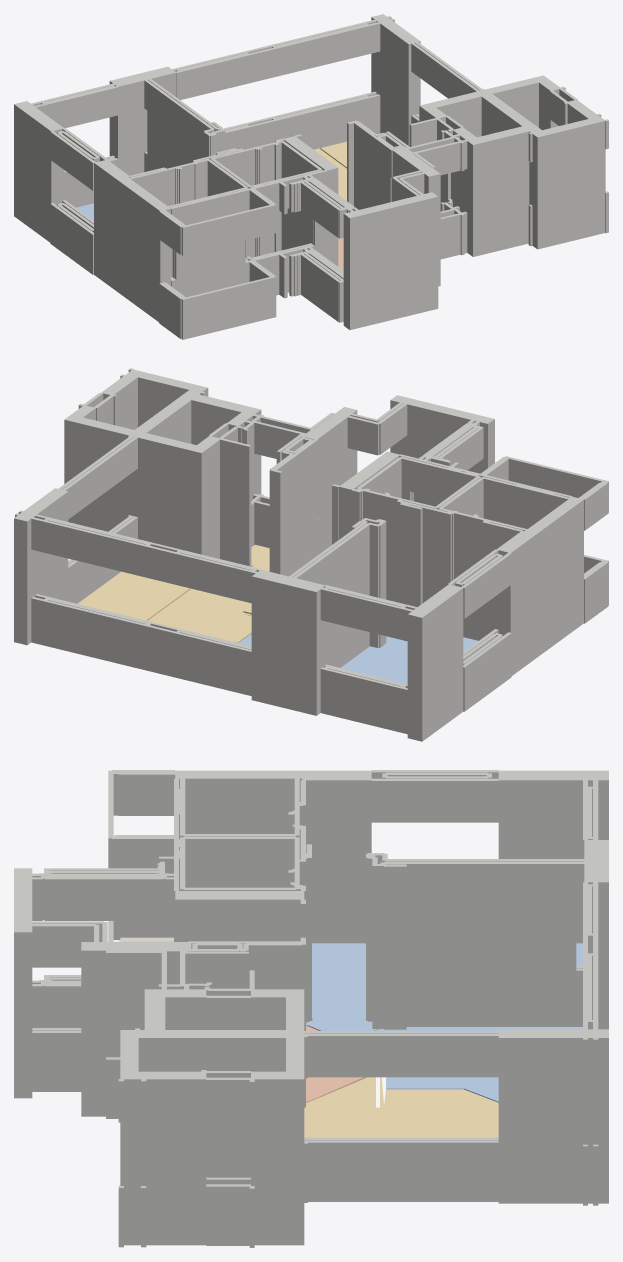
3 views of the same model, one above another, from view 1: azimuth 30°, elevation 25°; view 2: azimuth 150°, elevation 25°; view 3: azimuth 270°, elevation 25° (orthographic). The views are drawn at different scales.
Visible parts, largest first — view 1: walls; view 2: walls, room:living:1, room:living:2, room:bedroom:0; view 3: walls, room:living:1, room:bedroom:0, room:bedroom:3, room:kitchen:8.
Part boxes in pixels (x1,y1,x2,y2): walls: [14, 14, 608, 339]; walls: [14, 368, 608, 741]; room:living:1: [148, 544, 269, 642]; room:living:2: [77, 571, 190, 620]; room:bedroom:0: [341, 636, 478, 684]; walls: [14, 770, 608, 1247]; room:living:1: [304, 1077, 498, 1137]; room:bedroom:0: [306, 943, 582, 1030]; room:bedroom:3: [375, 1027, 582, 1102]; room:kitchen:8: [306, 1026, 366, 1102].
Bounding box in the file's own units: 11.28 × 2.8 × 9.1.
